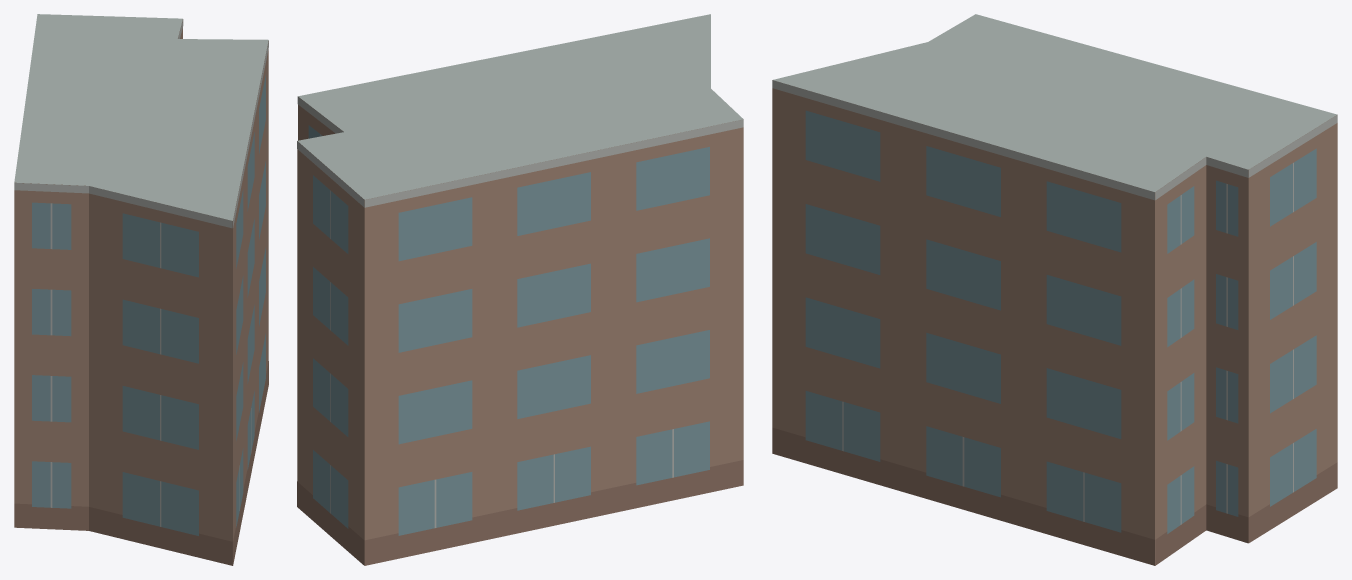
File: survey-upis-32492930.glb
3 renders of one model, left to right at view 1: azimuth 30°, elevation 25°; view 2: azimuth 150°, elevation 25°; view 3: azimuth 270°, elevation 25°, orthographic. The views are drawn at different scales.
Parts seen in each view (by area): view 1: survey-upis-32492930.tmp; view 2: survey-upis-32492930.tmp; view 3: survey-upis-32492930.tmp.
Part boxes in pixels (<box>): survey-upis-32492930.tmp: <box>14,14,268,565</box>; survey-upis-32492930.tmp: <box>297,14,743,565</box>; survey-upis-32492930.tmp: <box>772,14,1337,565</box>.
Bounding box in the file's own units: 11.42 × 11.15 × 15.29.
